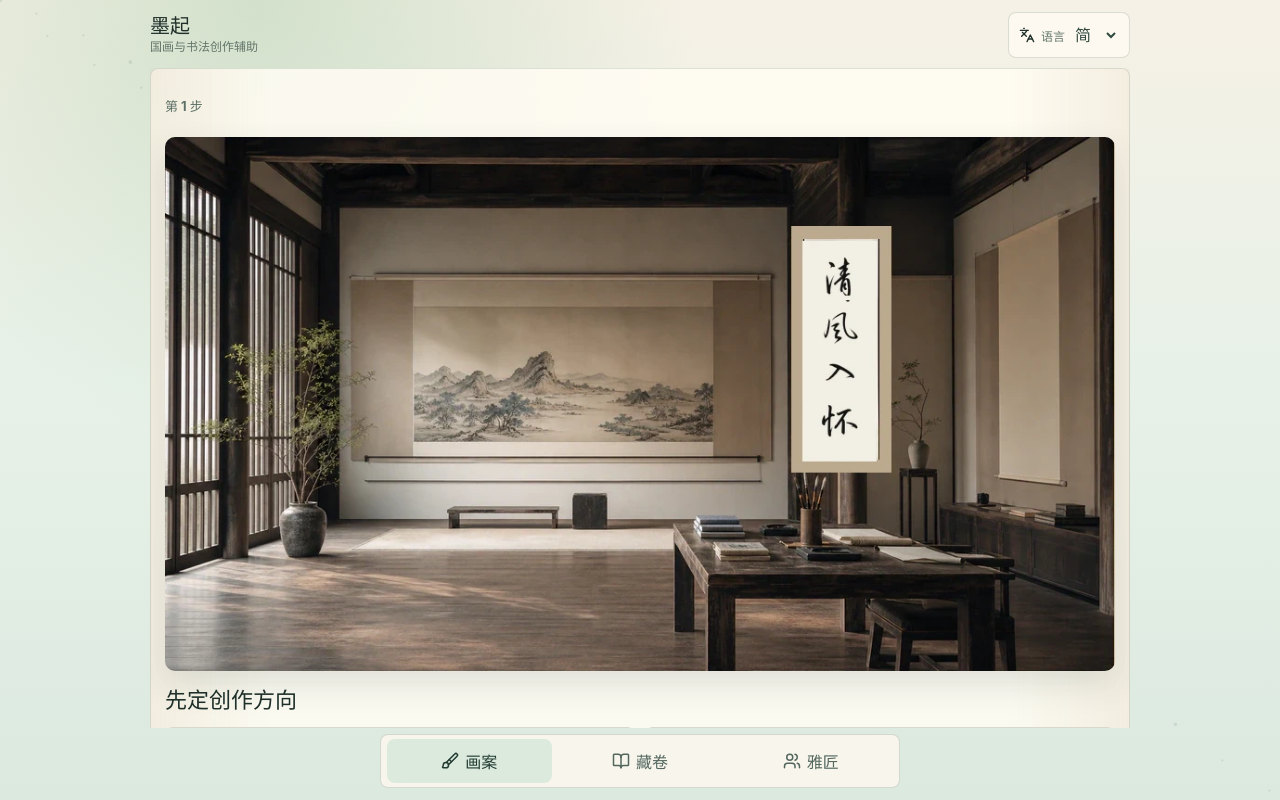
Test: App › localizes the language selector label itself
The width and height of the screenshot is (1280, 800).
Select "EN" in the dropdown labelled "语言" at (1095, 35), box [1071,13,1119,57]
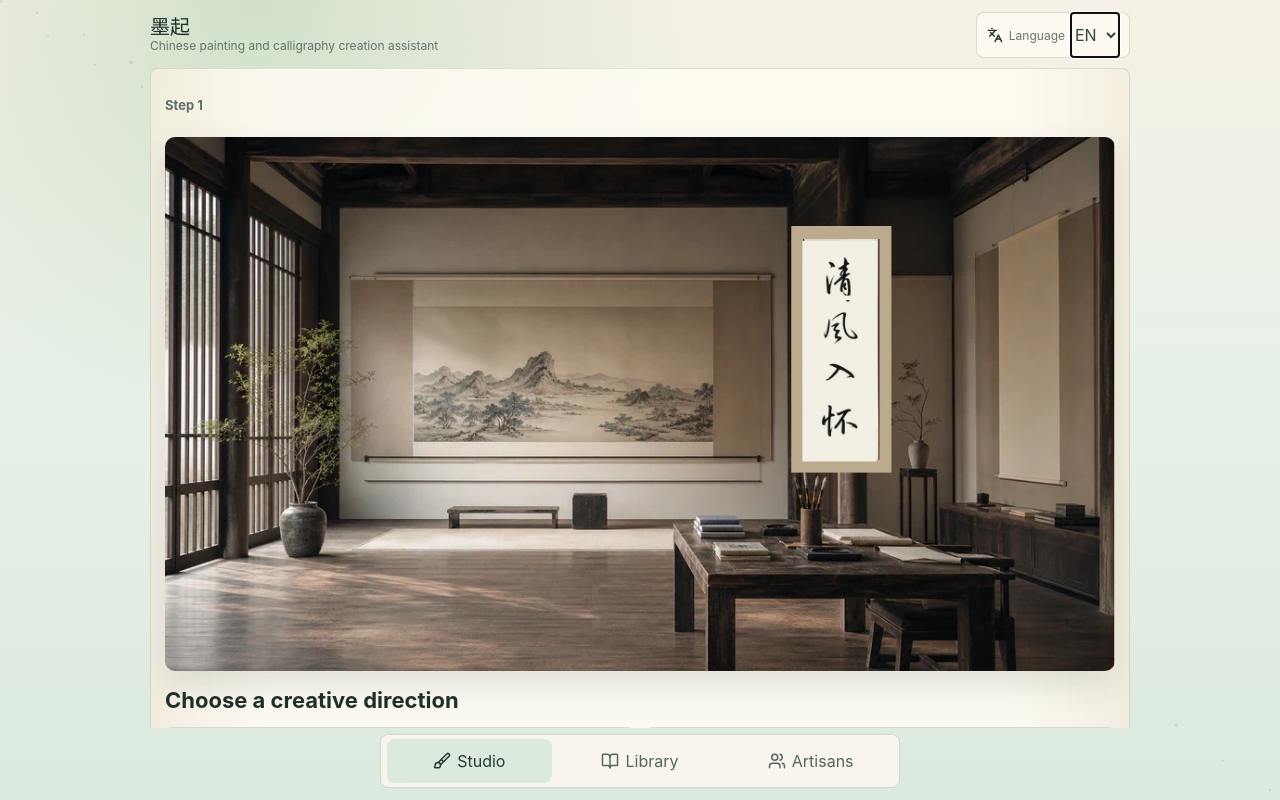
Check: the text "Language" is shown, box [1009,28,1065,42]
Select "繁" in the dropdown labelled "Language" at (1095, 35), box [1071,13,1119,57]
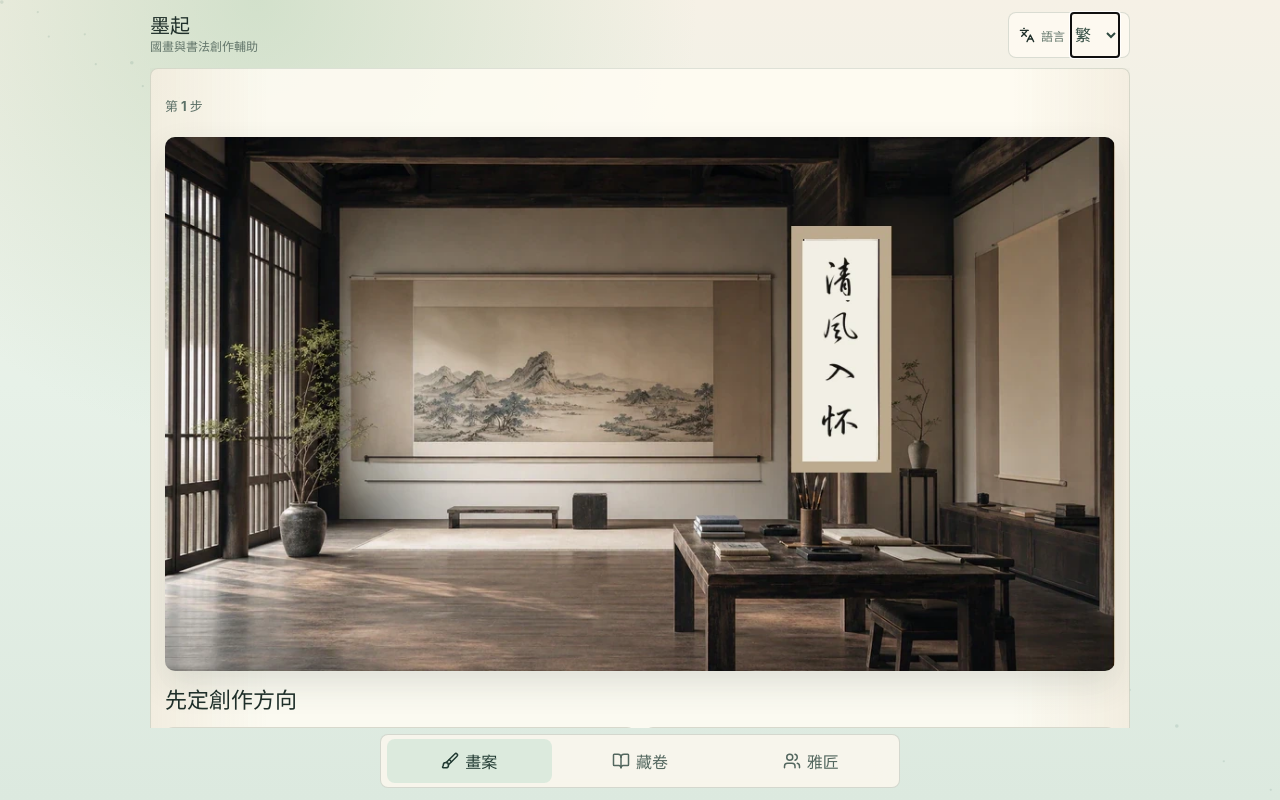
Check: the text "語言" is shown, box [1041,26,1065,44]
Select "日" in the dropdown labelled "語言" at (1095, 35), box [1071,13,1119,57]
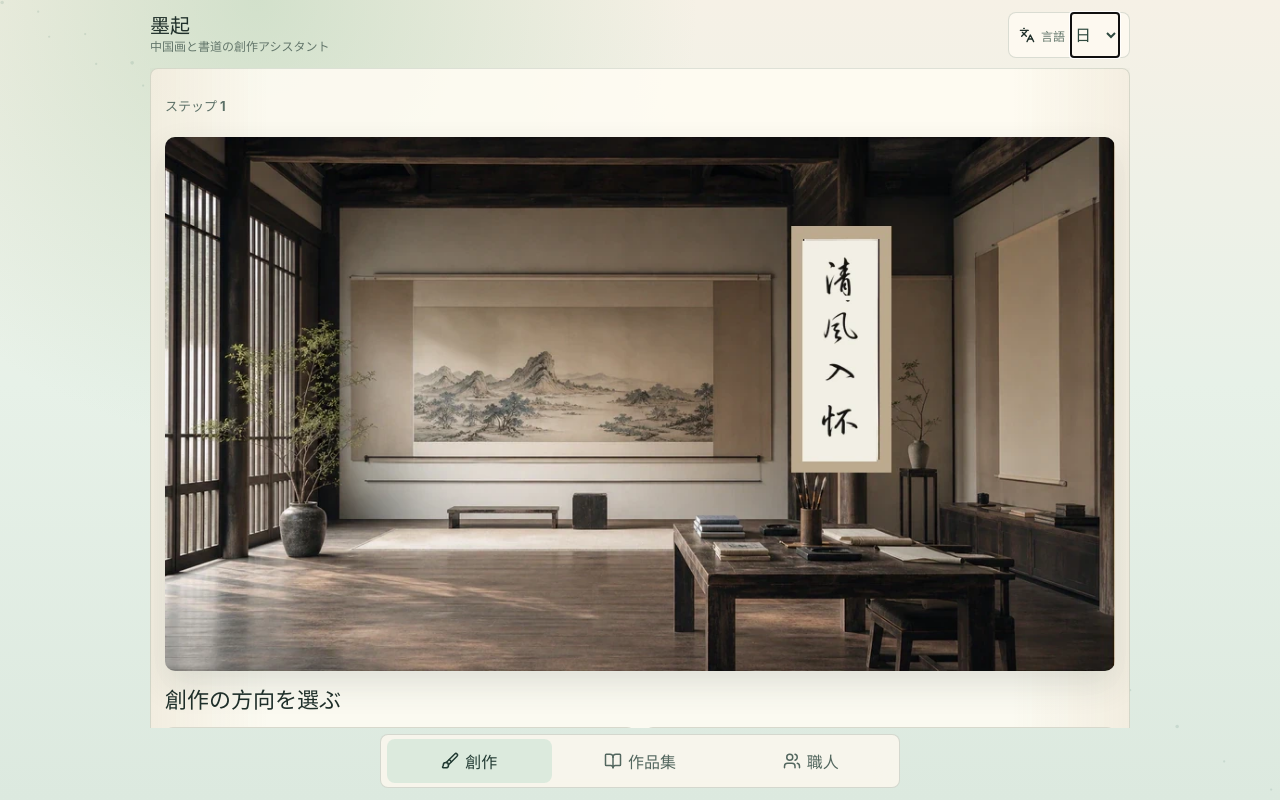
Check: the button "創作" is shown, box [387,739,552,783]
Check: the button "作品集" is shown, box [558,739,722,783]
Check: the button "職人" is shown, box [728,739,893,783]
